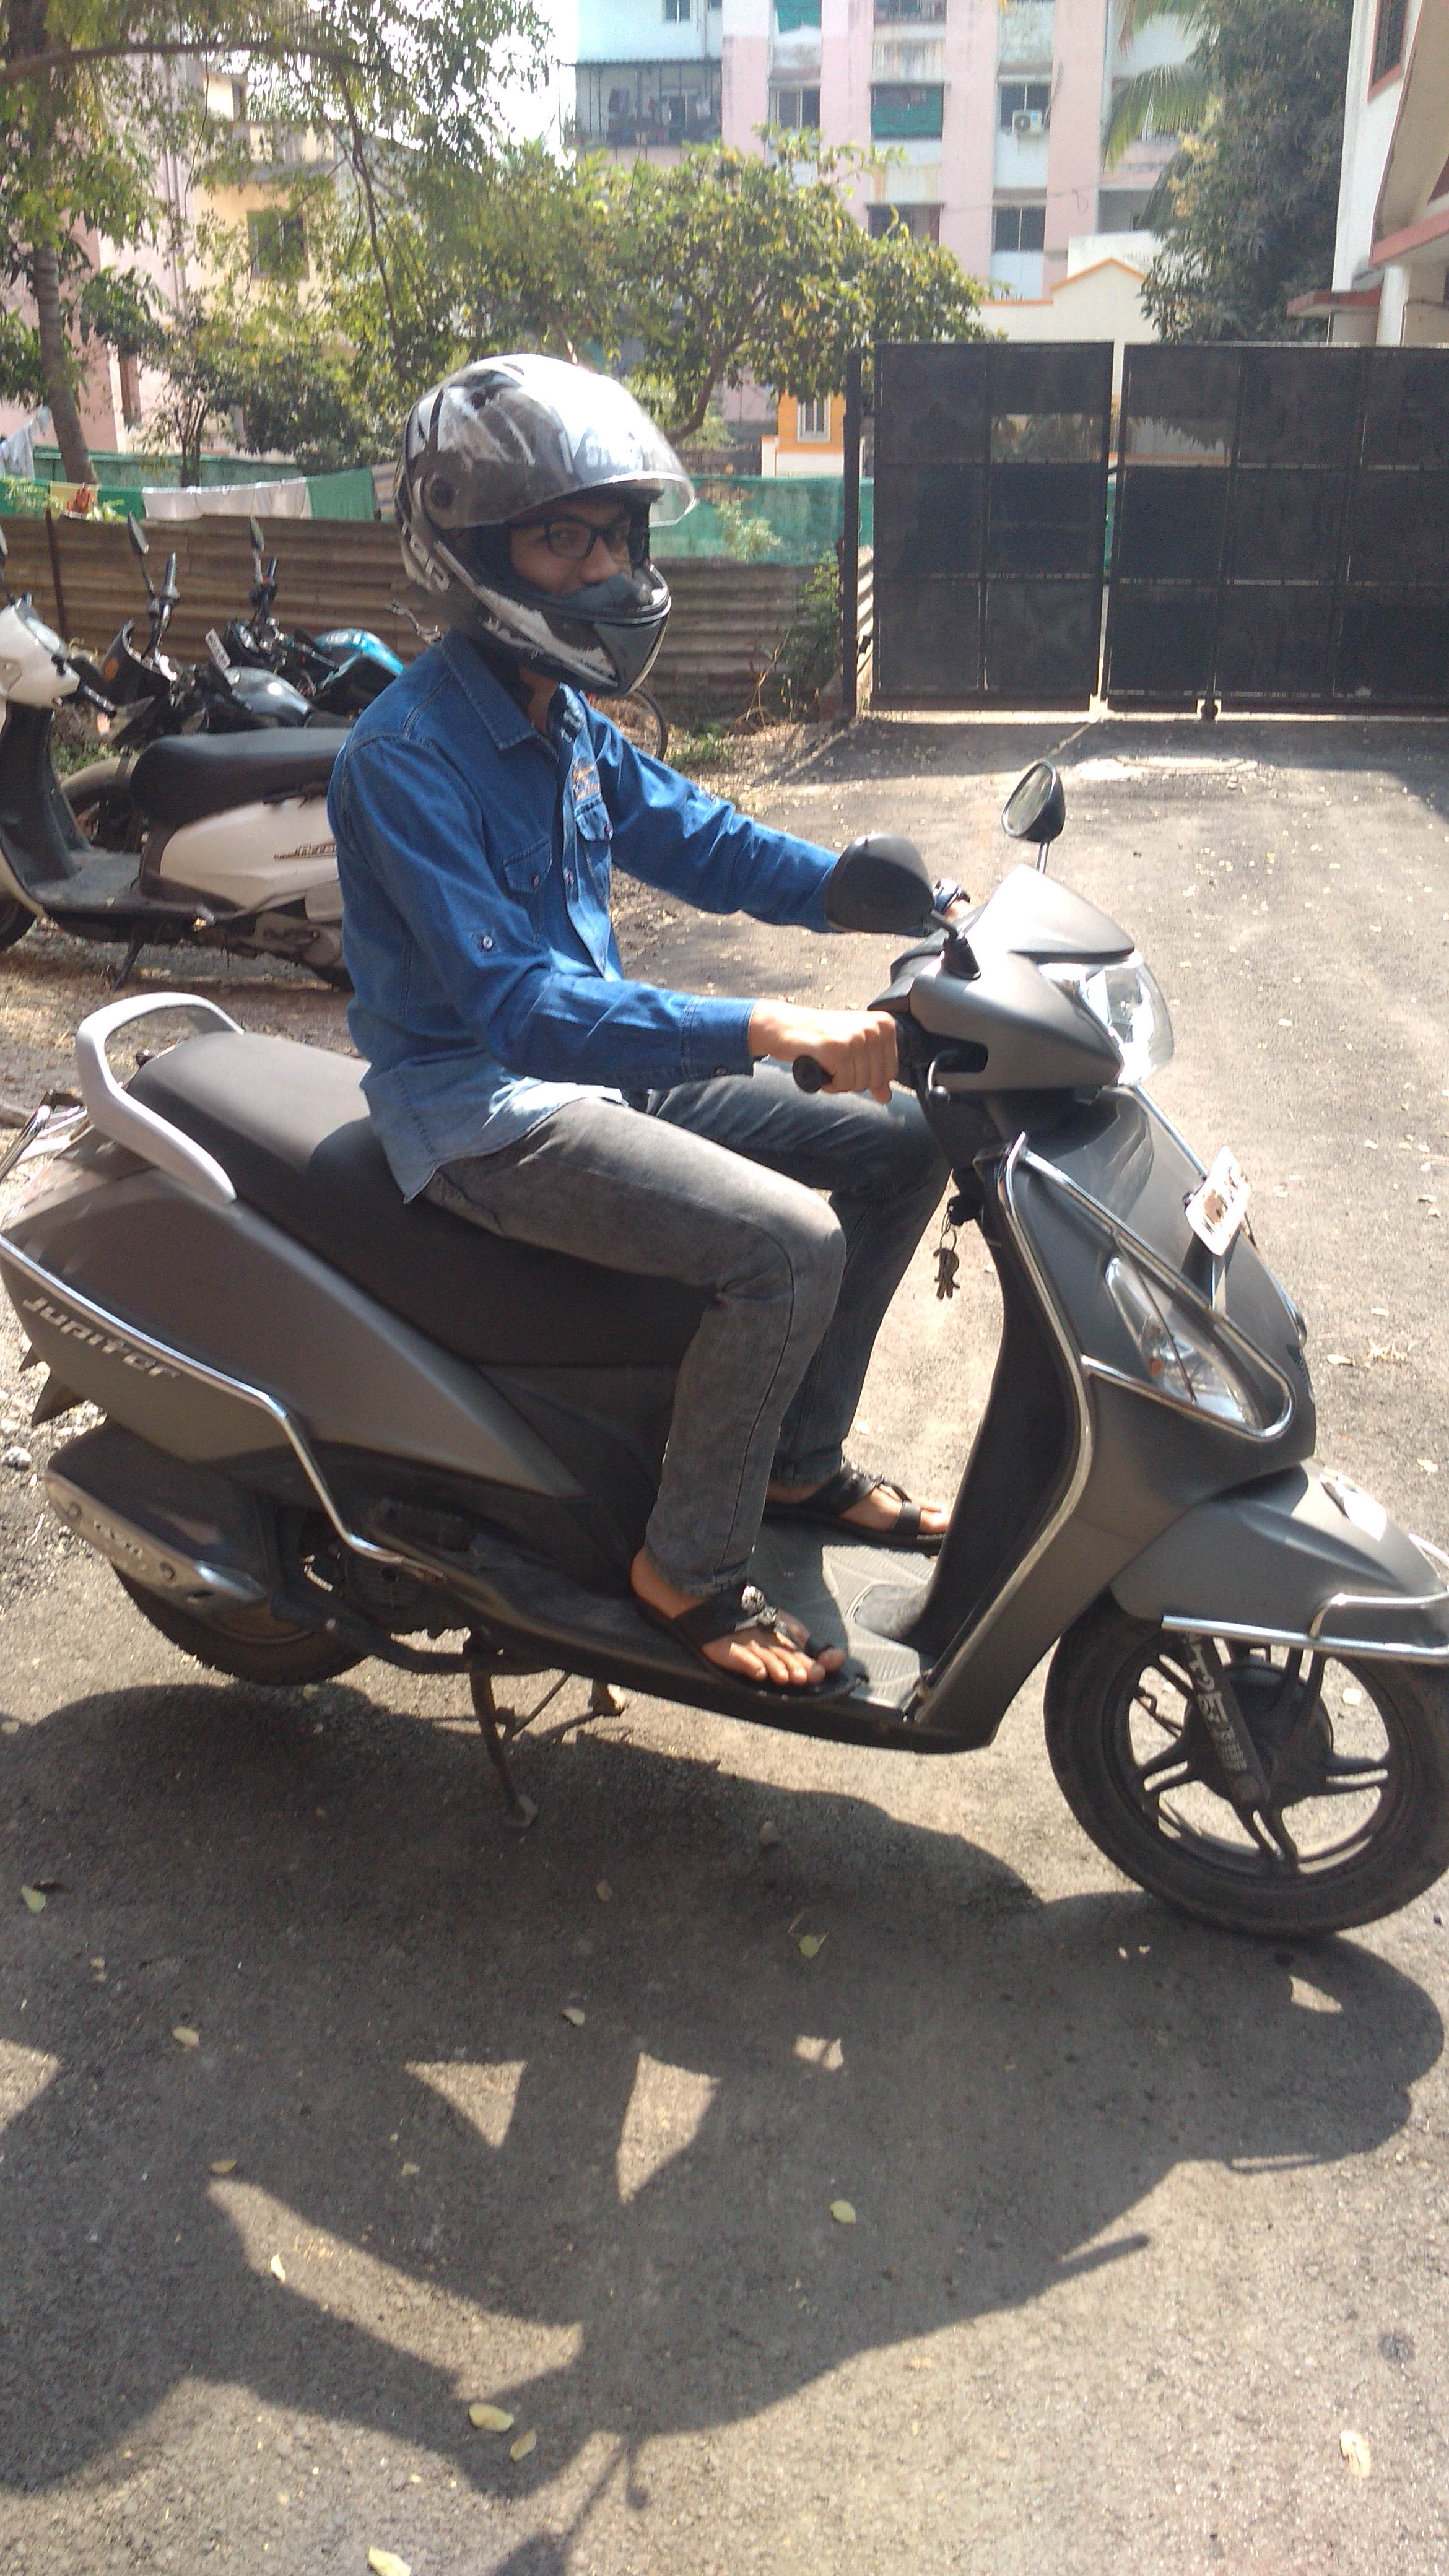helmet: (324, 331, 835, 1210)
